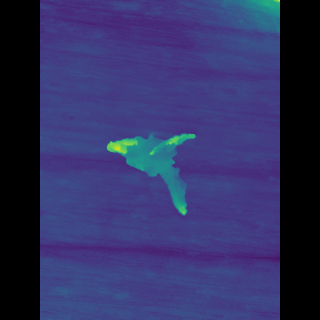Loch: (119, 122, 190, 221)
